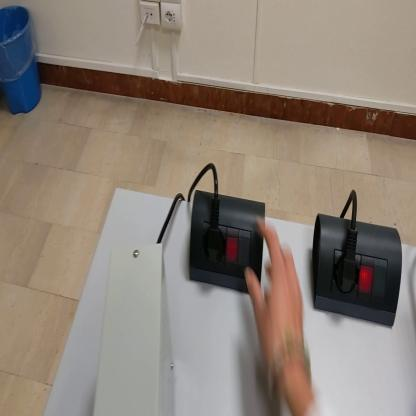hand: (245, 219, 308, 374)
power supply: (94, 242, 177, 415)
socket: (311, 211, 405, 331), (188, 192, 265, 298)
